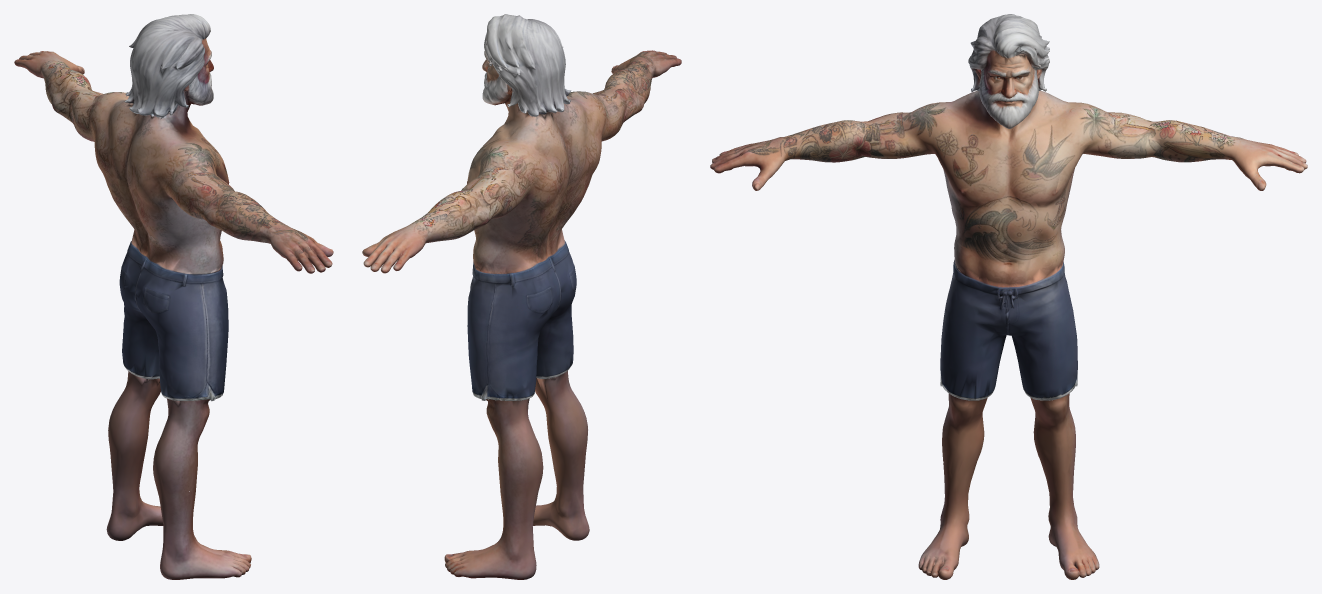
The model's file is the-legend-2.glb.
3 views of the same model, side by side, from view 1: azimuth 30°, elevation 25°; view 2: azimuth 150°, elevation 25°; view 3: azimuth 270°, elevation 25° (orthographic).
Visible parts, largest first — view 1: the-legend-2; view 2: the-legend-2; view 3: the-legend-2.
Boxes of the visible parts, bbox=[...] form: the-legend-2: bbox=[14, 14, 333, 579]; the-legend-2: bbox=[362, 14, 681, 579]; the-legend-2: bbox=[710, 14, 1307, 579].
Bounding box in the file's own units: 0.193 × 0.9792 × 0.9778.
Materials: 1 (1 with a texture image).
